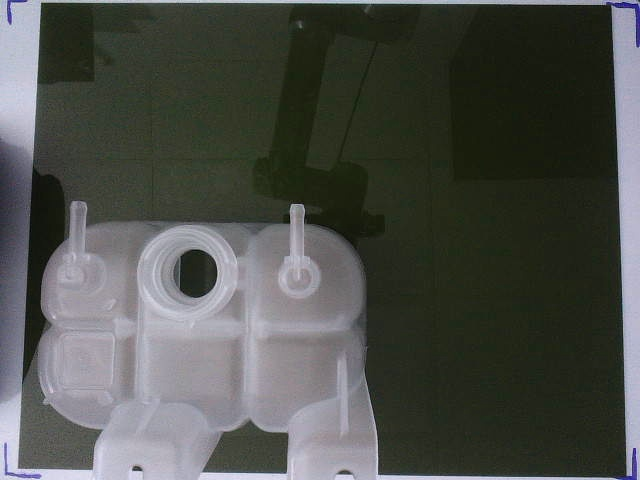reservoir_transparent_Top: (38, 200, 379, 480)
